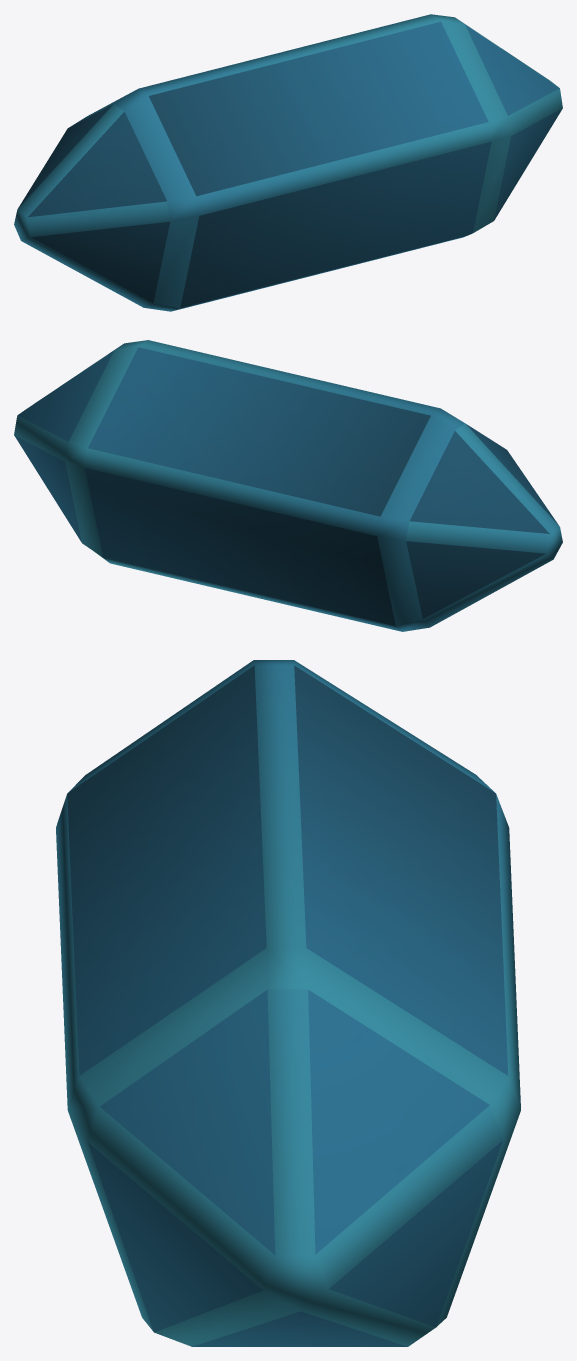
Rendered from christal_saphire_5.fbx.
The picture shows the model from 3 angles, top to bottom: view 1: azimuth 30°, elevation 25°; view 2: azimuth 150°, elevation 25°; view 3: azimuth 270°, elevation 25°; orthographic projection. The views are drawn at different scales.
Parts seen in each view (by area): view 1: christal_saphire_5; view 2: christal_saphire_5; view 3: christal_saphire_5.
Boxes of the visible parts, x1,y1,x2,y2 form: christal_saphire_5: (14, 14, 562, 311); christal_saphire_5: (14, 340, 562, 631); christal_saphire_5: (56, 660, 520, 1346).
Size of the model in its own units: 64.29 by 22.77 by 24.56.
Materials: 1 (1 with a texture image).
